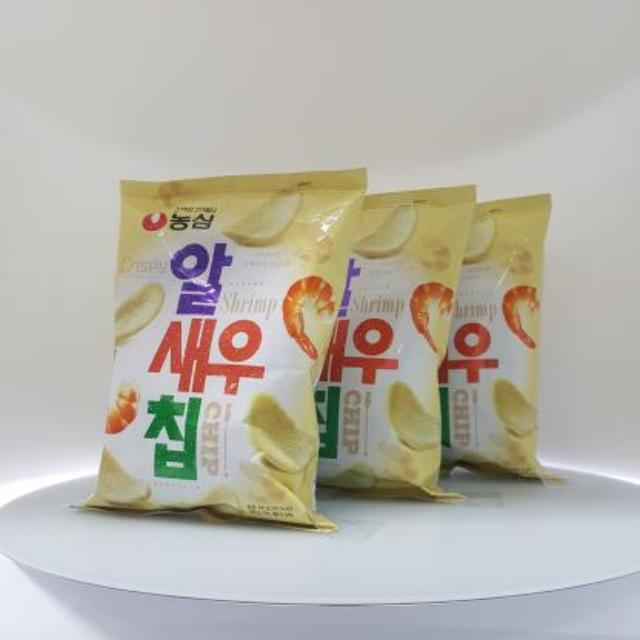snack_bag: (62, 157, 582, 533)
